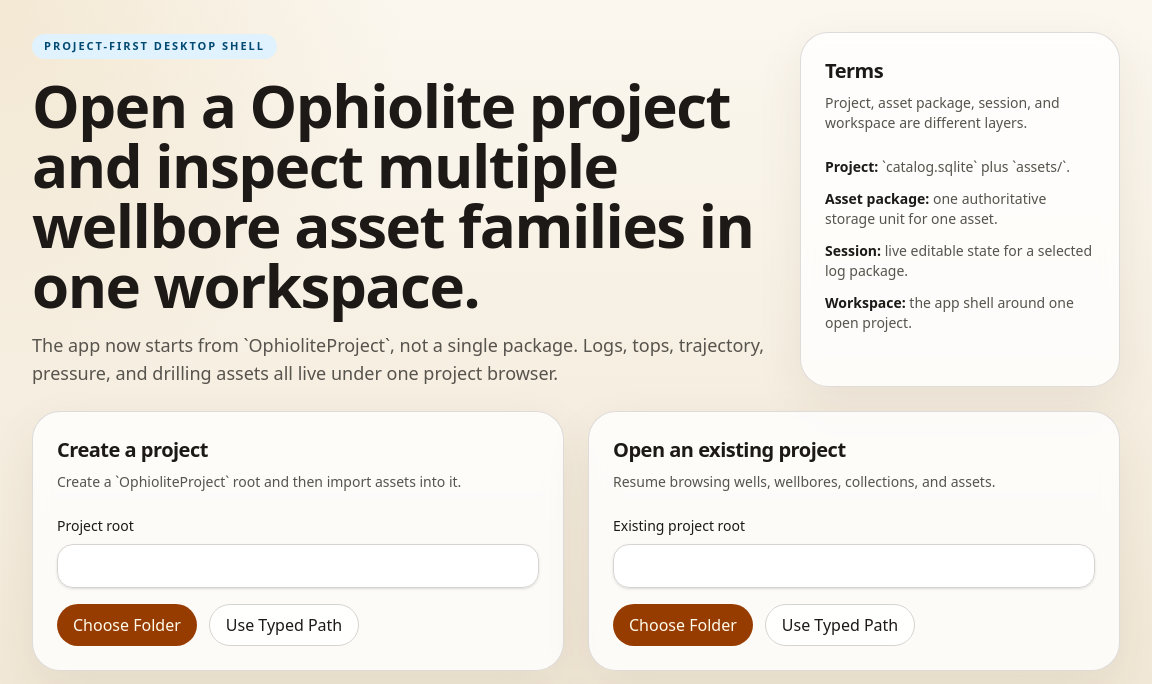
Test: ophiolite project harness › opens an existing project and shows wells and assets
Click the button with test id "open-project-button" at (683, 624), box [613,604,753,646]
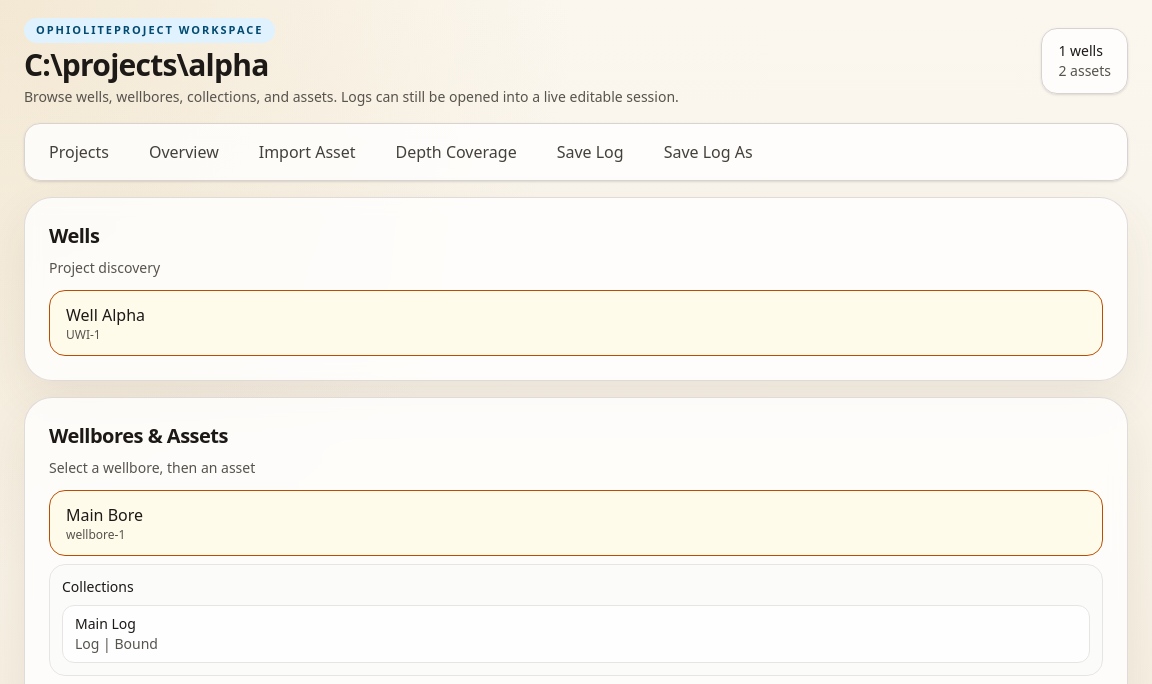
Now the heading "C:\\projects\\alpha" is shown, box [24,44,269,84]
Now the text "Well Alpha" is shown, box [66,304,145,326]
Now the text "Main Bore" is shown, box [66,504,143,526]
